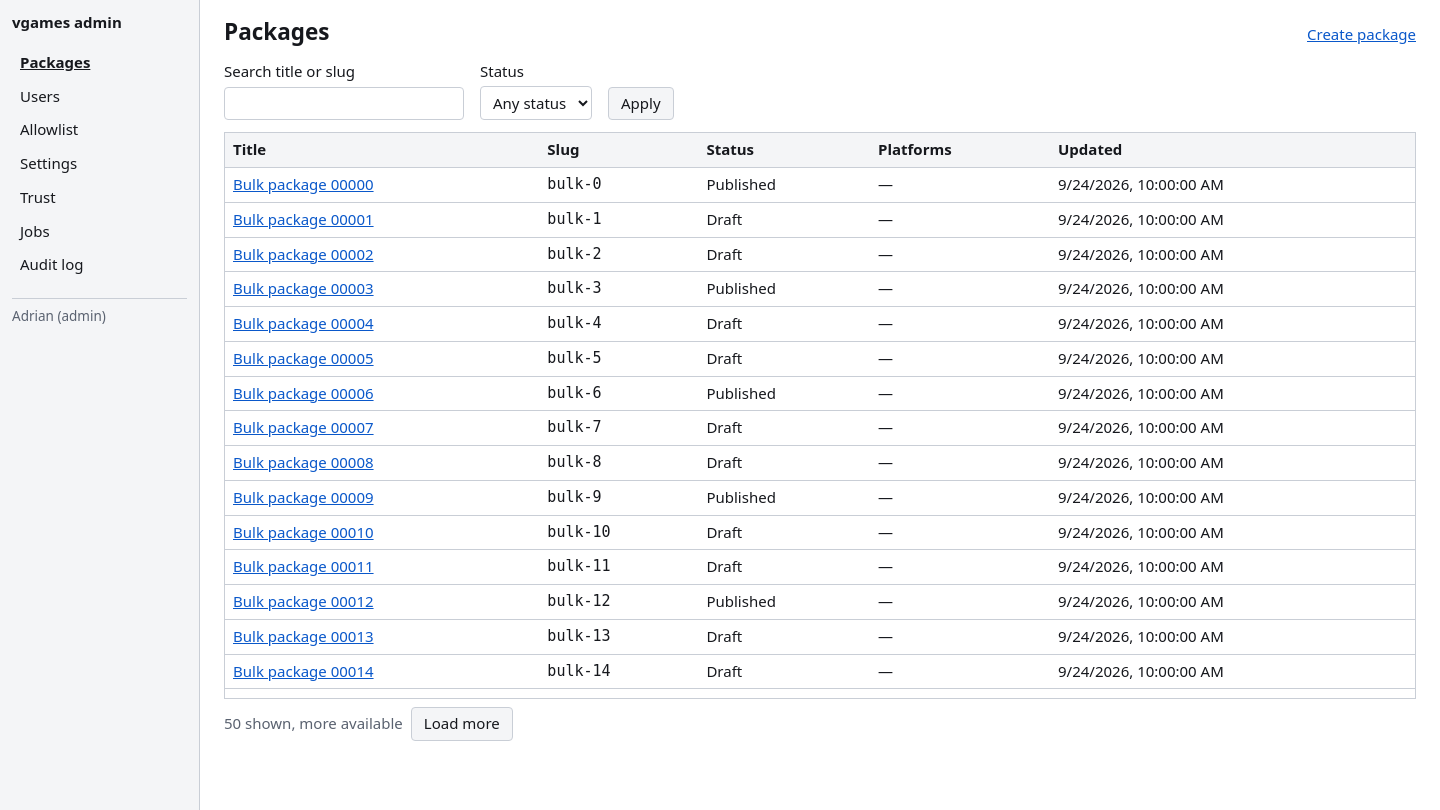
Test: packages list › pages with Load more
Check: the text "50 shown, more available" is shown, box [224,713,403,735]
Click the button "Load more". click: (462, 724)
box: [411,707,513,741]
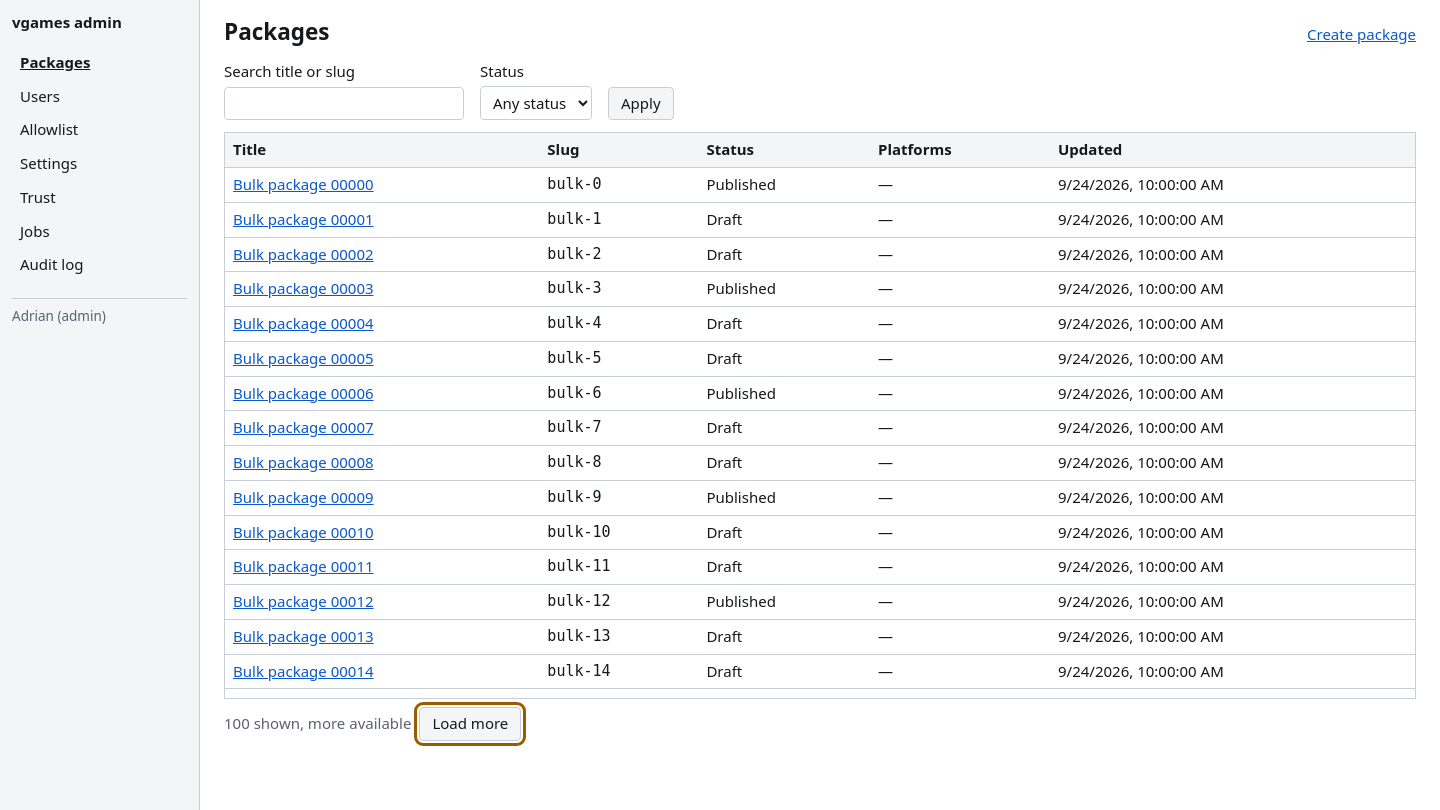
Click the button "Load more". click: (470, 724)
box: [419,707,521,741]
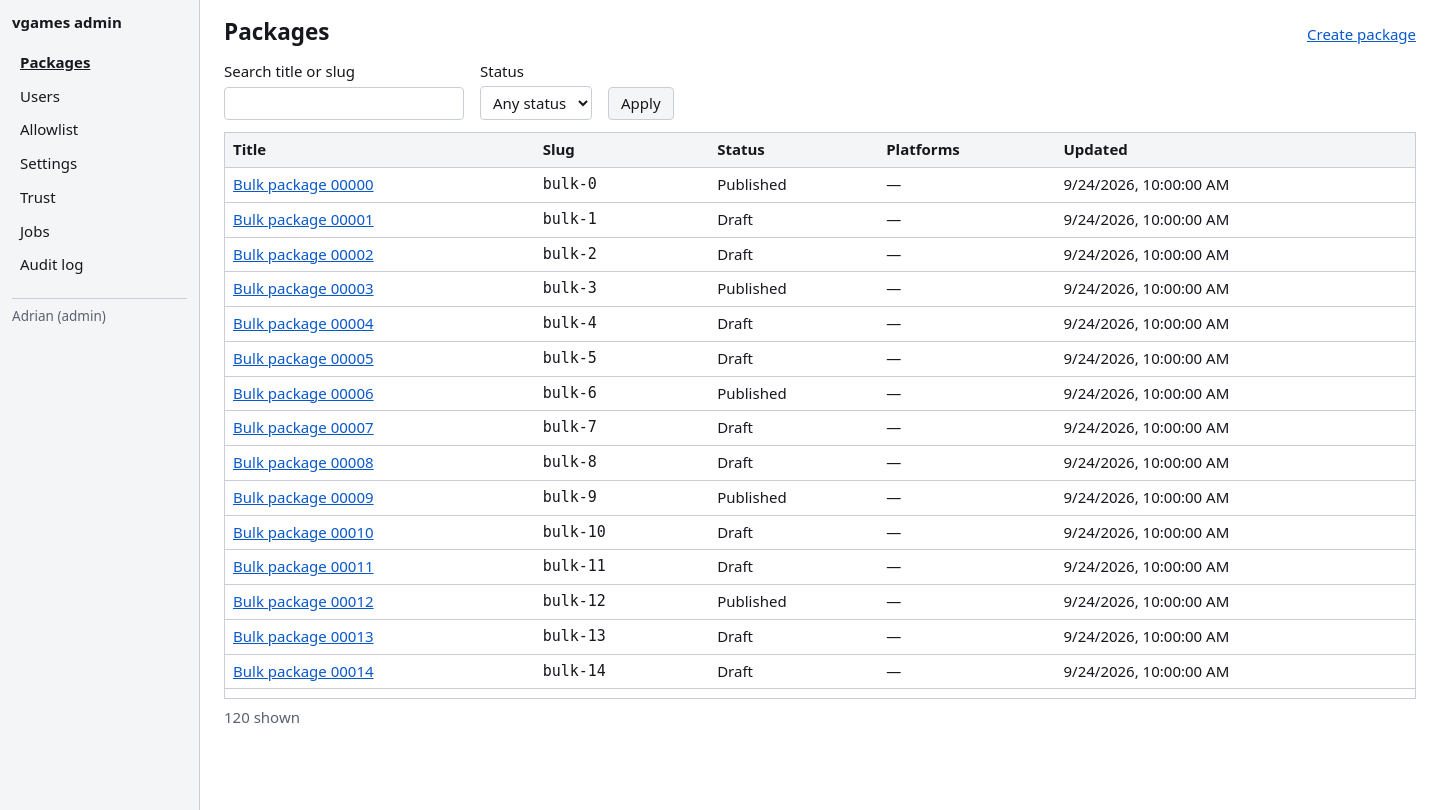
Check: the text "120 shown" is shown, box [224,707,300,729]
Check: the button "Load more" is gone
